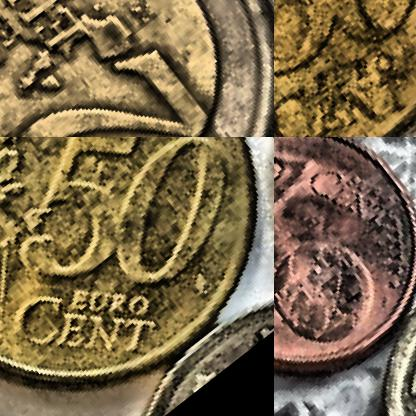coin: (0, 137, 273, 415), (274, 137, 415, 415), (0, 0, 273, 136), (274, 0, 415, 136)
